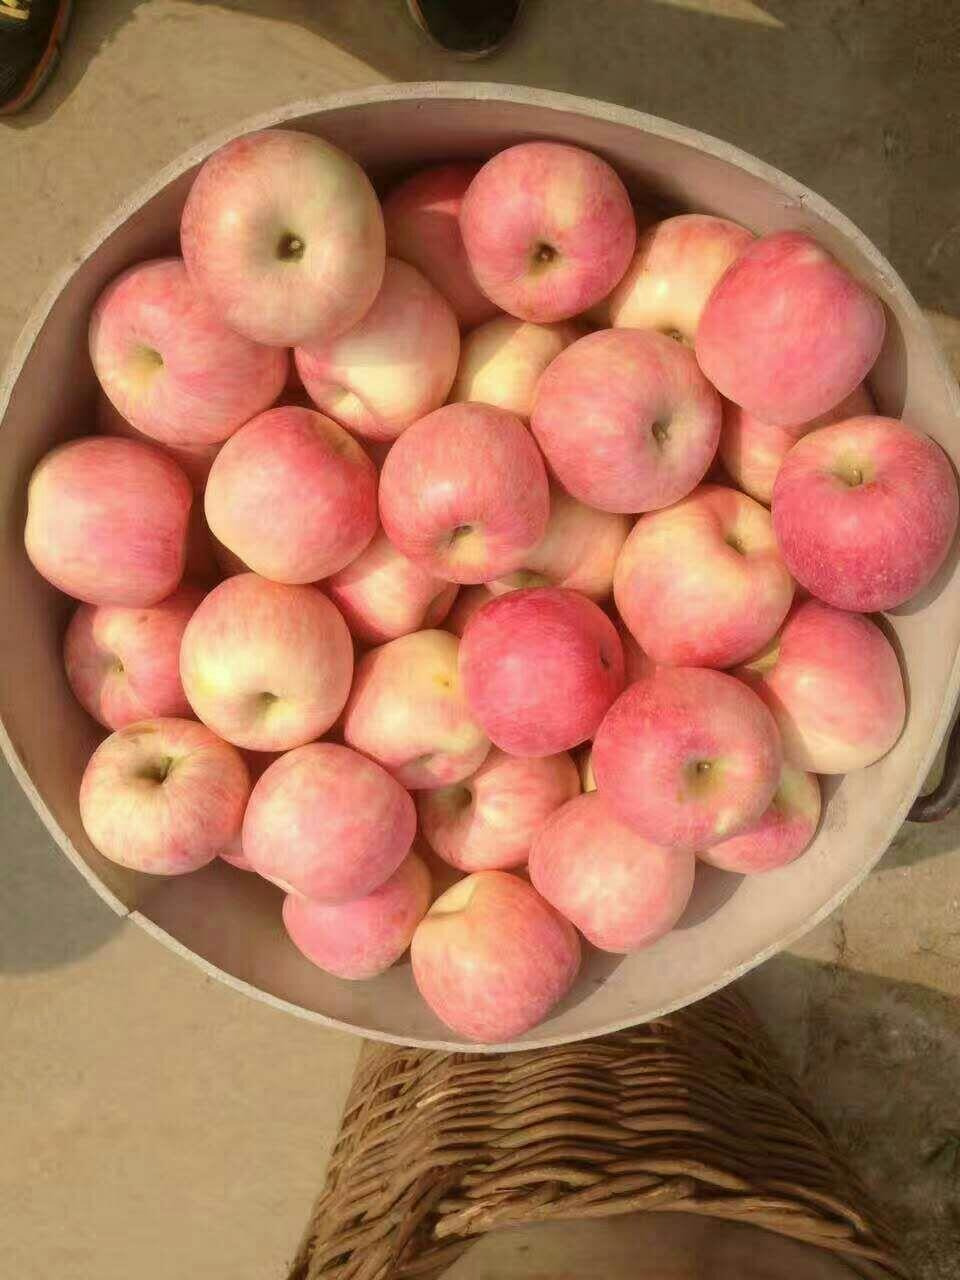apple: (179, 125, 387, 346), (82, 255, 280, 445), (591, 655, 781, 851), (768, 417, 957, 613), (526, 324, 722, 509), (456, 139, 635, 325), (402, 869, 581, 1046), (374, 399, 556, 573), (21, 431, 204, 605), (199, 406, 381, 580), (178, 571, 352, 752), (456, 582, 635, 753), (528, 790, 711, 952), (609, 481, 792, 643), (240, 740, 419, 898), (699, 278, 888, 418), (760, 608, 911, 775), (80, 720, 243, 873), (341, 630, 490, 785), (602, 212, 754, 344)
